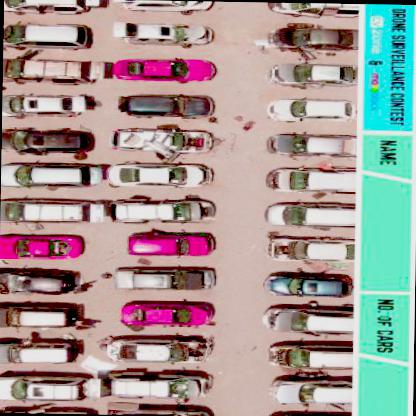car: (108, 195, 214, 224), (103, 335, 202, 366), (106, 370, 208, 399), (3, 56, 100, 86), (114, 54, 216, 82), (260, 302, 354, 332), (1, 196, 101, 224), (106, 161, 211, 187), (3, 160, 100, 188), (0, 371, 90, 401), (109, 20, 216, 45), (264, 338, 356, 367), (266, 165, 358, 194), (268, 378, 354, 408), (122, 299, 206, 329), (109, 127, 214, 151), (2, 127, 92, 155), (119, 92, 215, 118), (270, 23, 359, 51), (0, 337, 81, 367), (264, 270, 350, 298), (267, 95, 355, 122), (265, 202, 352, 229), (4, 19, 91, 46), (272, 61, 358, 88), (266, 131, 356, 156), (2, 234, 82, 262), (121, 264, 207, 290), (270, 235, 352, 262), (0, 301, 82, 328), (0, 267, 79, 294), (130, 232, 210, 258), (3, 92, 89, 115), (4, 0, 105, 13), (272, 3, 358, 18), (122, 0, 209, 13)
